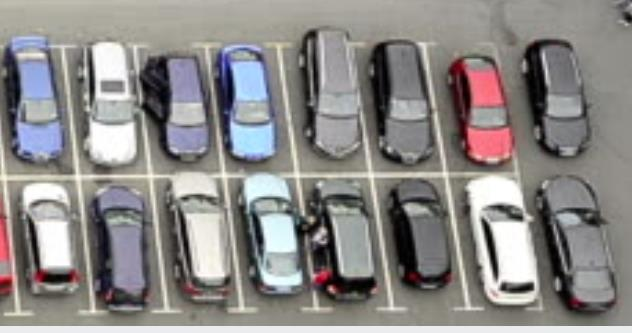car: (535, 173, 619, 317), (460, 173, 542, 309), (161, 168, 235, 307), (294, 23, 365, 160), (232, 171, 307, 294), (366, 39, 438, 167), (309, 176, 381, 303), (520, 37, 593, 158), (2, 36, 66, 167), (73, 40, 139, 167), (90, 184, 153, 317), (444, 52, 515, 169), (386, 176, 456, 293), (214, 41, 277, 164), (18, 180, 82, 299), (150, 52, 213, 168)
